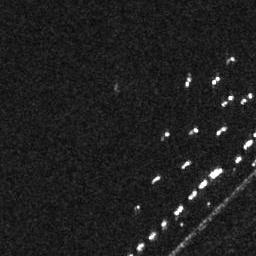ship: (209, 165, 223, 179), (151, 173, 162, 184), (174, 204, 184, 216), (216, 126, 228, 136), (198, 178, 207, 190), (244, 138, 253, 150), (147, 230, 157, 240), (188, 190, 197, 201), (181, 158, 190, 169), (211, 76, 220, 85), (135, 243, 145, 251), (189, 127, 200, 134), (234, 155, 242, 164), (185, 76, 191, 87), (161, 219, 167, 227)
